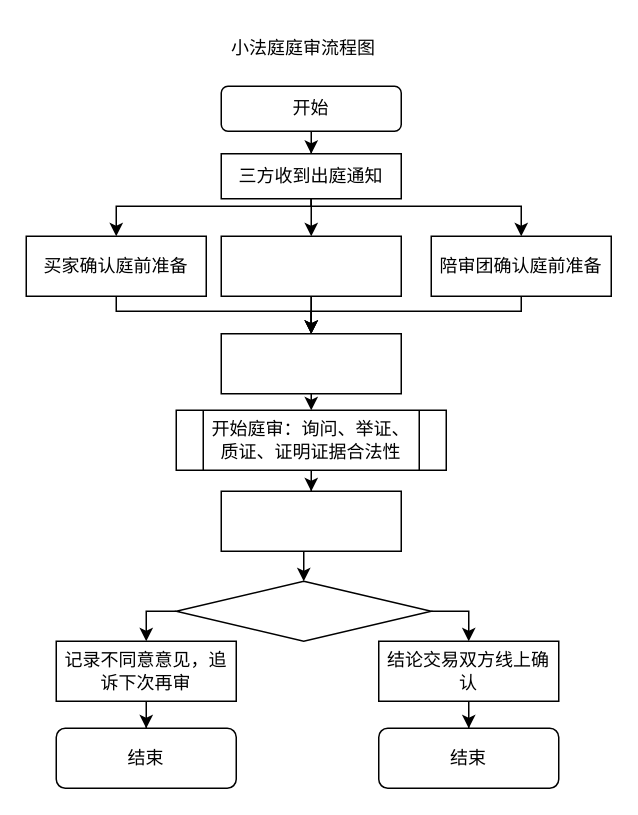
Image size: 638x815. Some labels were removed from this diagram. Each missing label, with the centre of its shape:
交易双方是否同意结果: the point at 303,610
卖家确认庭前准备: the point at 310,265
案件结论: the point at 310,520
线上法庭群创建: the point at 310,363
